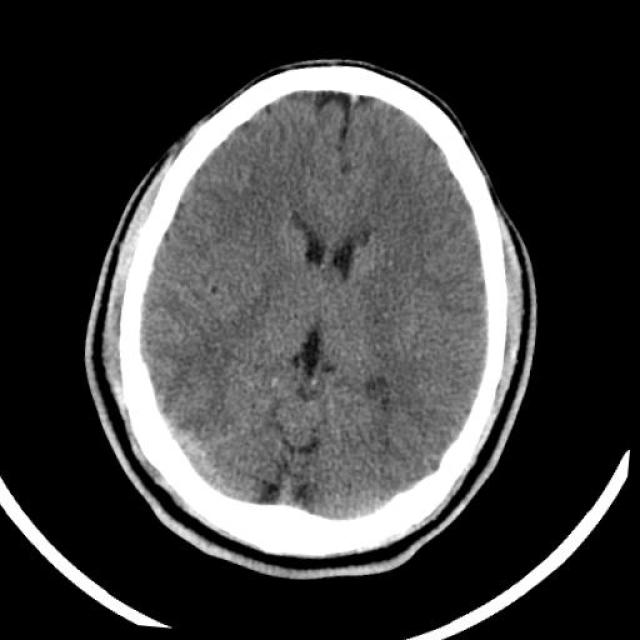Subdural: (136, 402, 240, 498)
